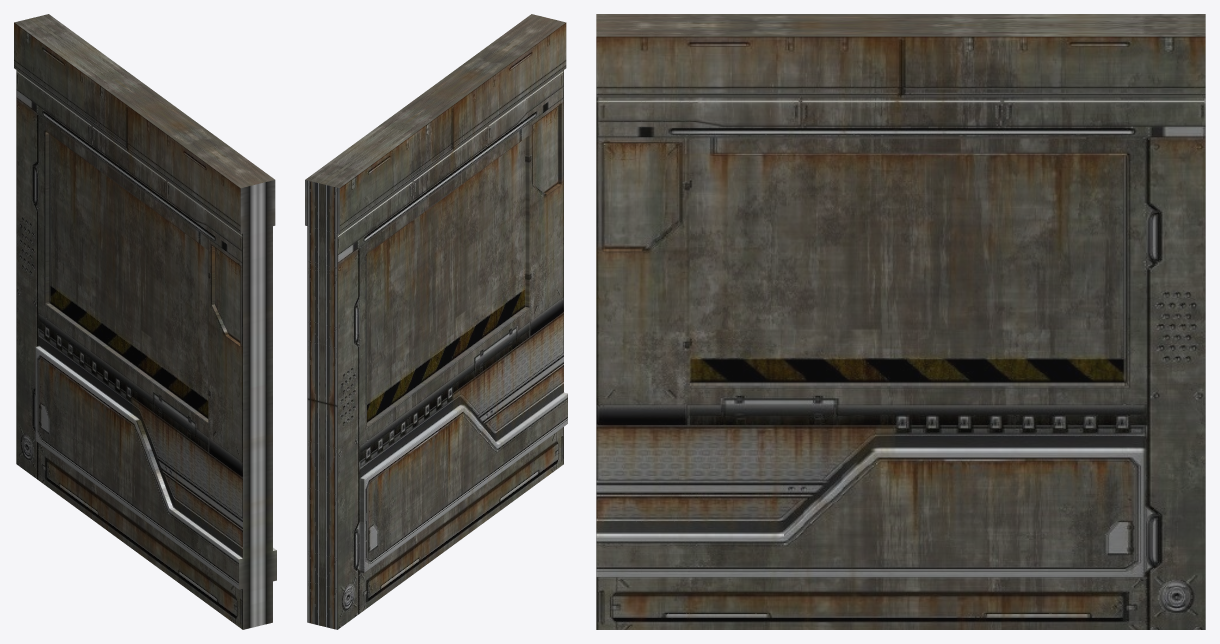
Rendered from LabDoorHalf.fbx.
The picture shows the model from 3 angles, left to right: view 1: azimuth 30°, elevation 25°; view 2: azimuth 150°, elevation 25°; view 3: azimuth 270°, elevation 25°; orthographic projection. The views are drawn at different scales.
Visible parts, largest first — view 1: LabDoor; view 2: LabDoor; view 3: LabDoor.
Part boxes in pixels (x1,y1,x2,y2): LabDoor: (14, 14, 276, 629); LabDoor: (305, 14, 567, 629); LabDoor: (596, 14, 1205, 629).
Size of the model in its own units: 25 by 280 by 260.
Materials: 1 (1 with a texture image).
